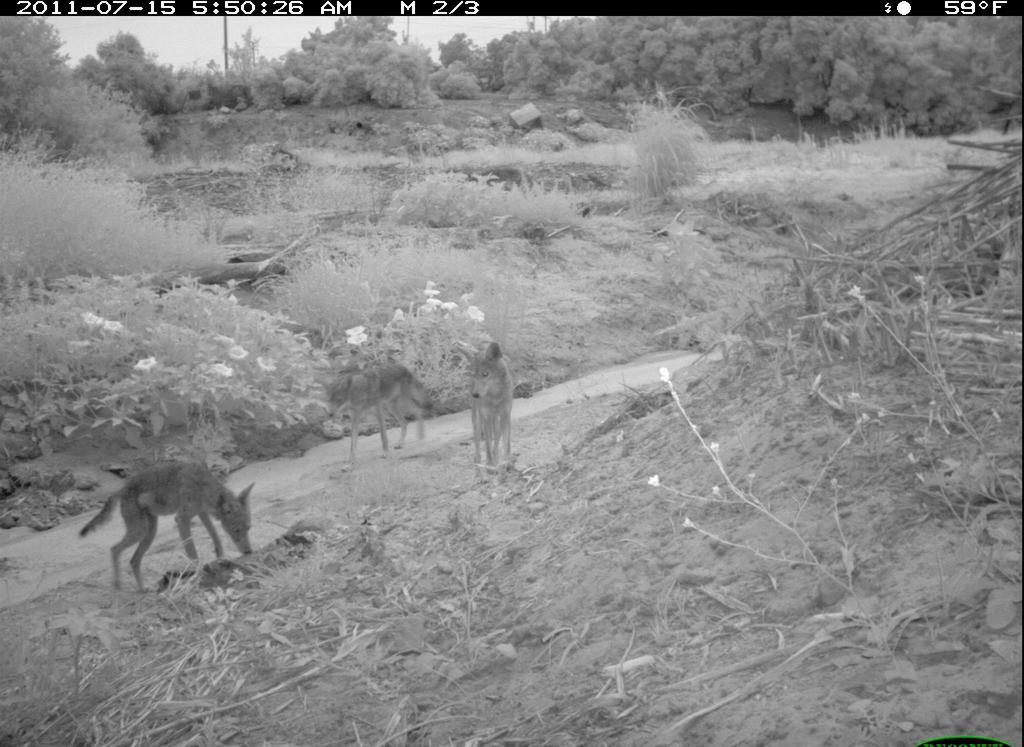coyote: (68, 455, 263, 602), (314, 353, 442, 473), (452, 347, 545, 488)
